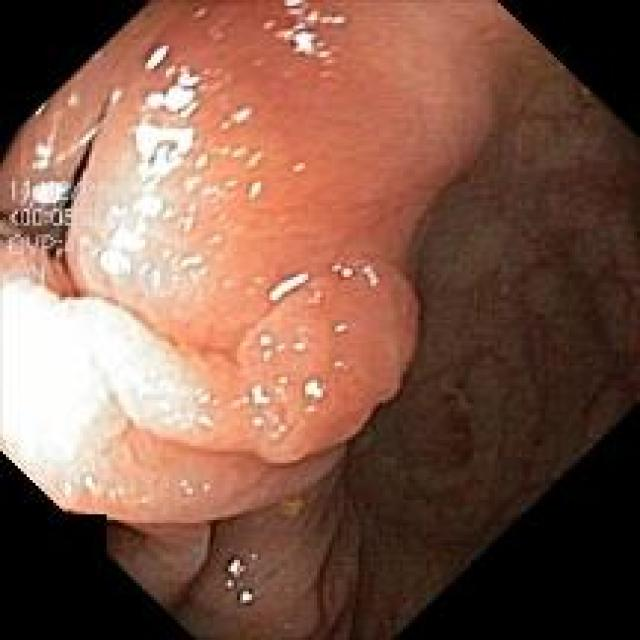Polyps: (3, 1, 500, 524)
